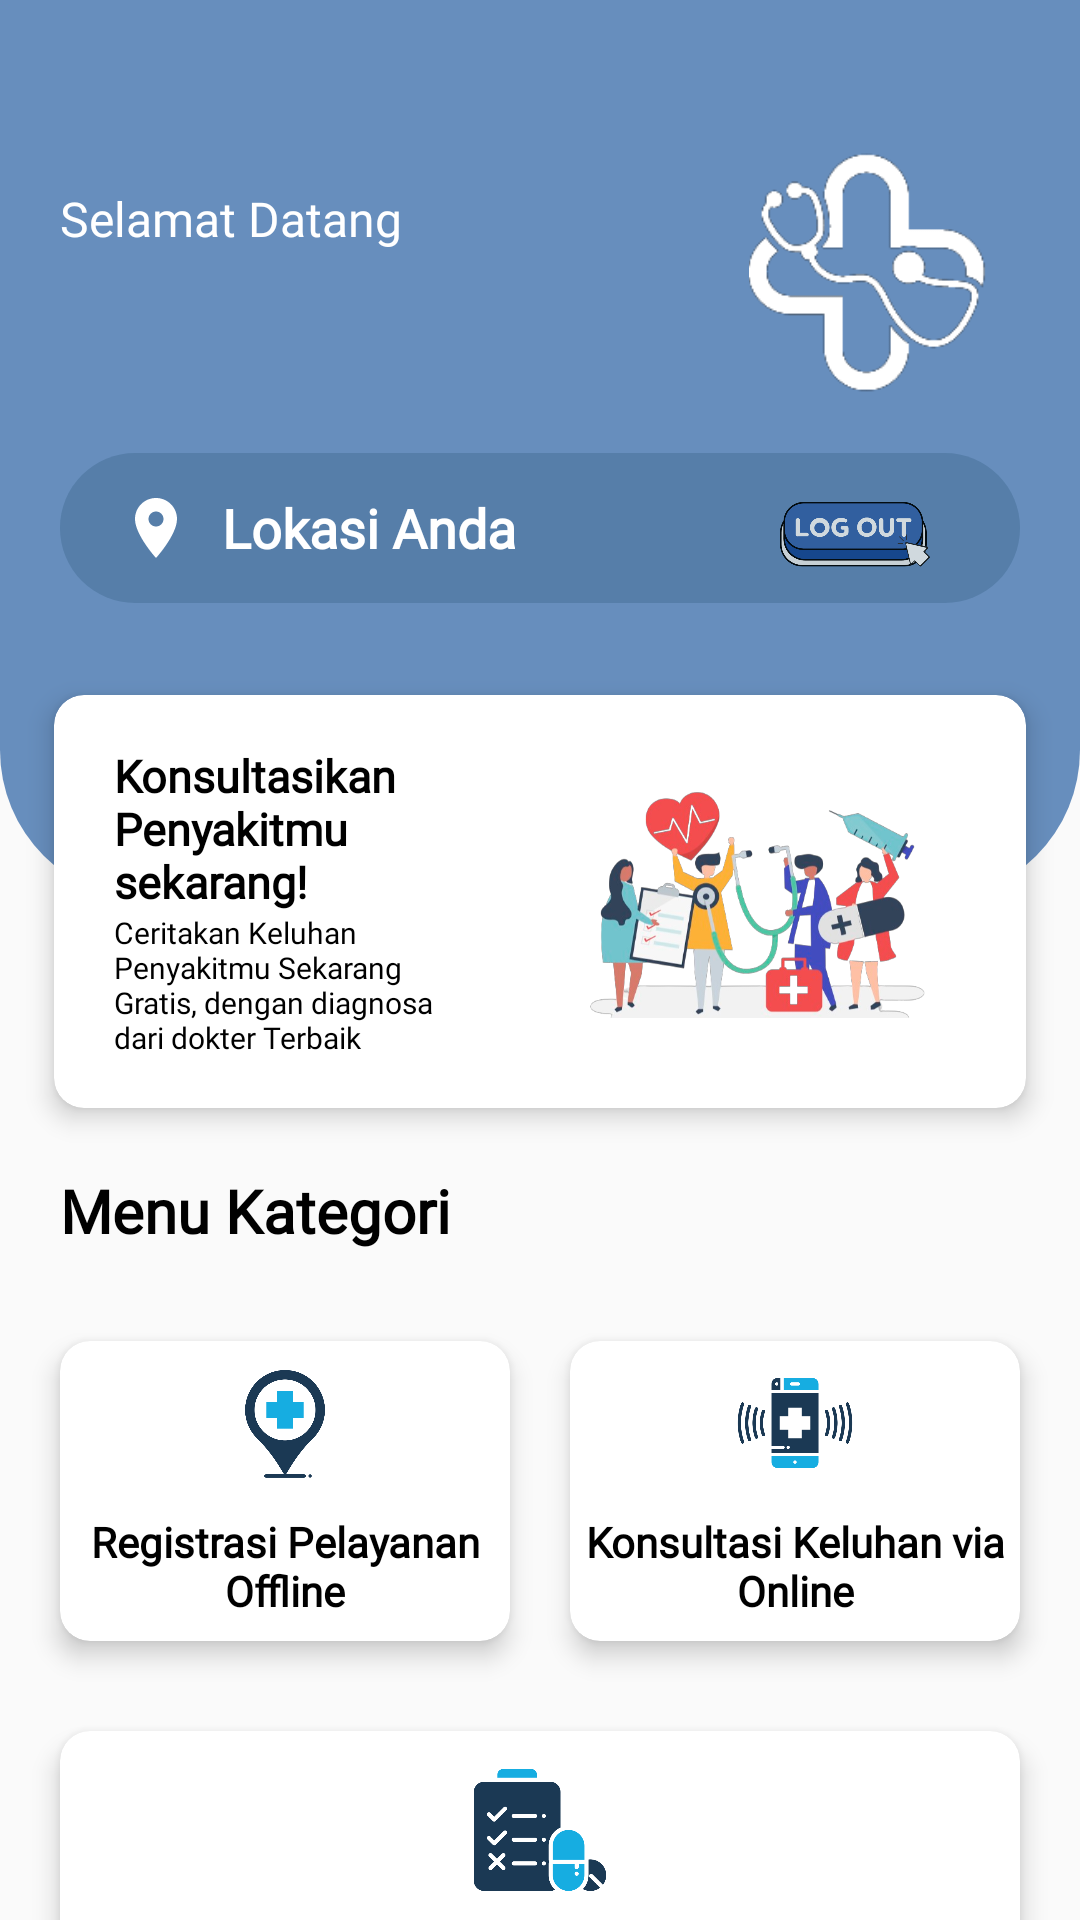

Icons on this 1080 × 1920 Android screen, each with the point to tap as point (x, y):
list: point (540, 1830)
loc: point (285, 1424)
location: point (156, 528)
phone: point (795, 1423)
